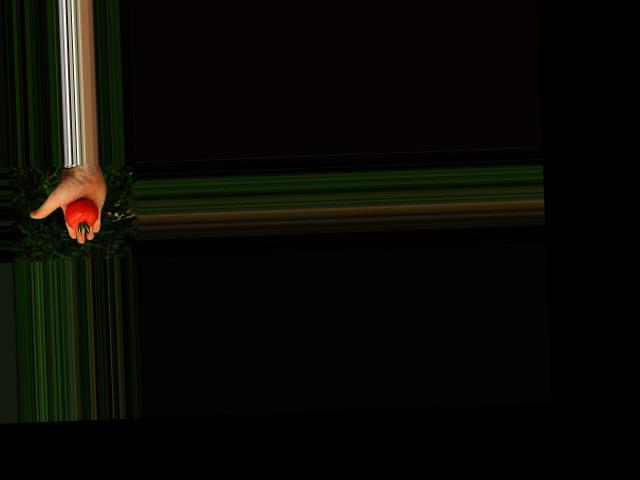tomato: (64, 198, 100, 229)
